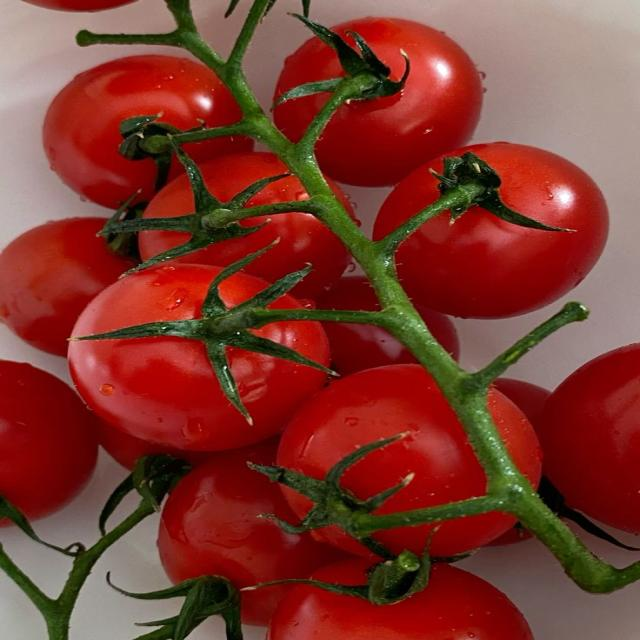tomato: (396, 143, 608, 317), (278, 365, 486, 513), (43, 55, 240, 208), (69, 336, 326, 450), (316, 17, 482, 185), (158, 440, 339, 588), (267, 564, 533, 639), (537, 344, 639, 533), (0, 218, 133, 356), (0, 361, 97, 519), (178, 213, 350, 298), (98, 421, 210, 470), (323, 322, 416, 375), (493, 378, 550, 429), (494, 378, 550, 429), (24, 0, 134, 11)
